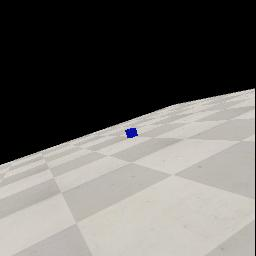box: (125, 128, 138, 138)
